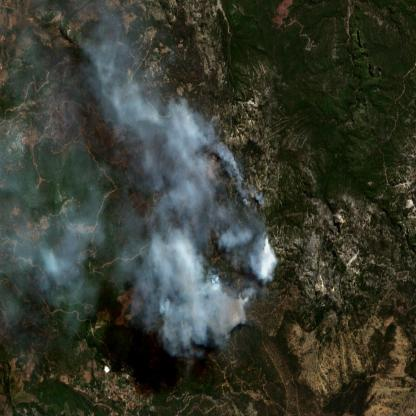fire: (207, 146, 278, 335)
